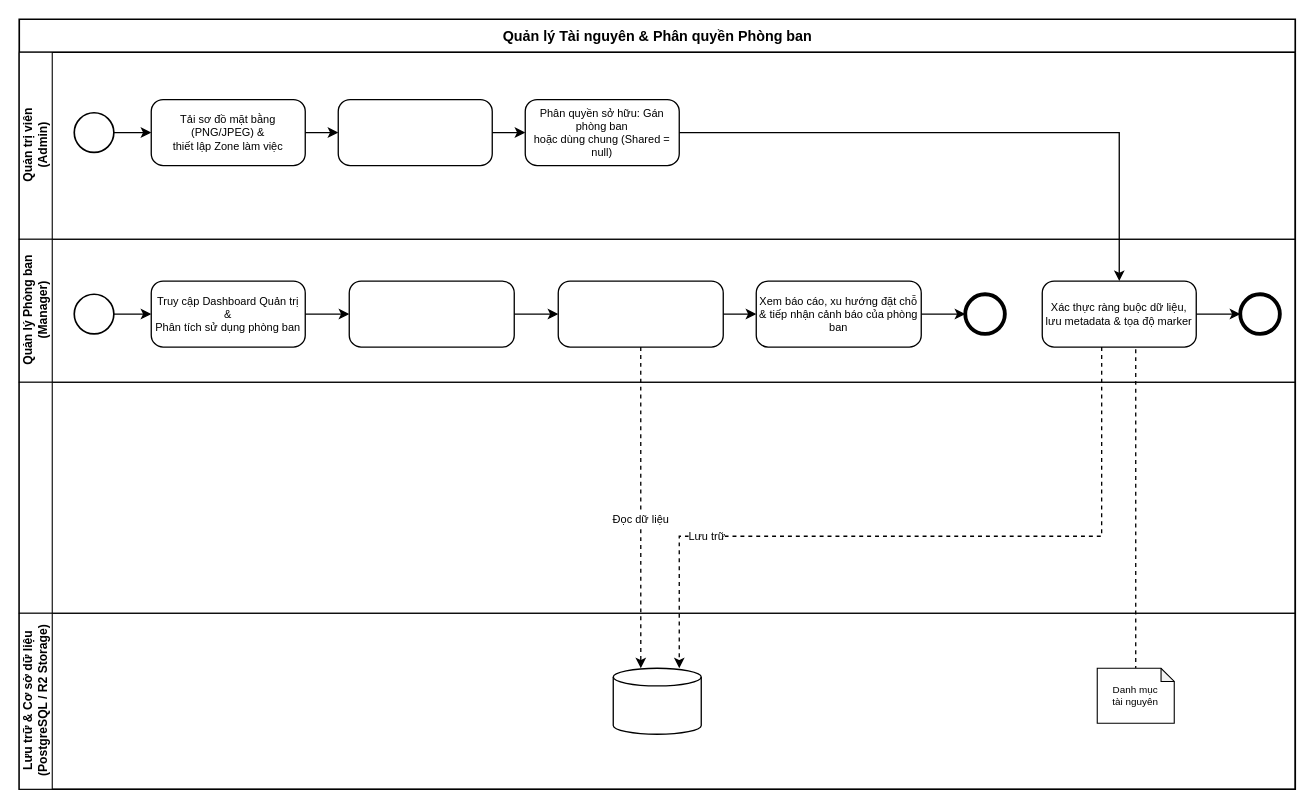
Some shapes in this 1316 by 810 pixel diagram are drawn without their labels. The box of each missing label's shape, as (x1, y1, x2, y2) in pixels:
Cơ sở dữ liệu & R2 Storage: (612, 667, 701, 734)
Hệ thống Alloca (Resource & Security Engine): (18, 381, 1295, 613)
Truy xuất danh mục tài nguyên, tổng thời lượng & telemetry phù hợp: (557, 280, 723, 347)
Tạo tài nguyên, định vị tọa độ & gán lịch hoạt động tuần: (337, 98, 492, 166)
Tự động áp đặt bộ lọc phân quyền theo department của Manager: (348, 280, 514, 347)
